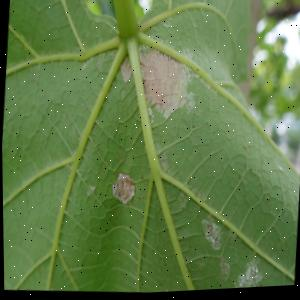Folha: (0, 0, 300, 300)
Fungo: (118, 43, 200, 126), (199, 215, 226, 254), (111, 170, 137, 207), (235, 261, 263, 291), (119, 56, 134, 86), (217, 258, 231, 285), (146, 107, 156, 127), (86, 184, 95, 199)
